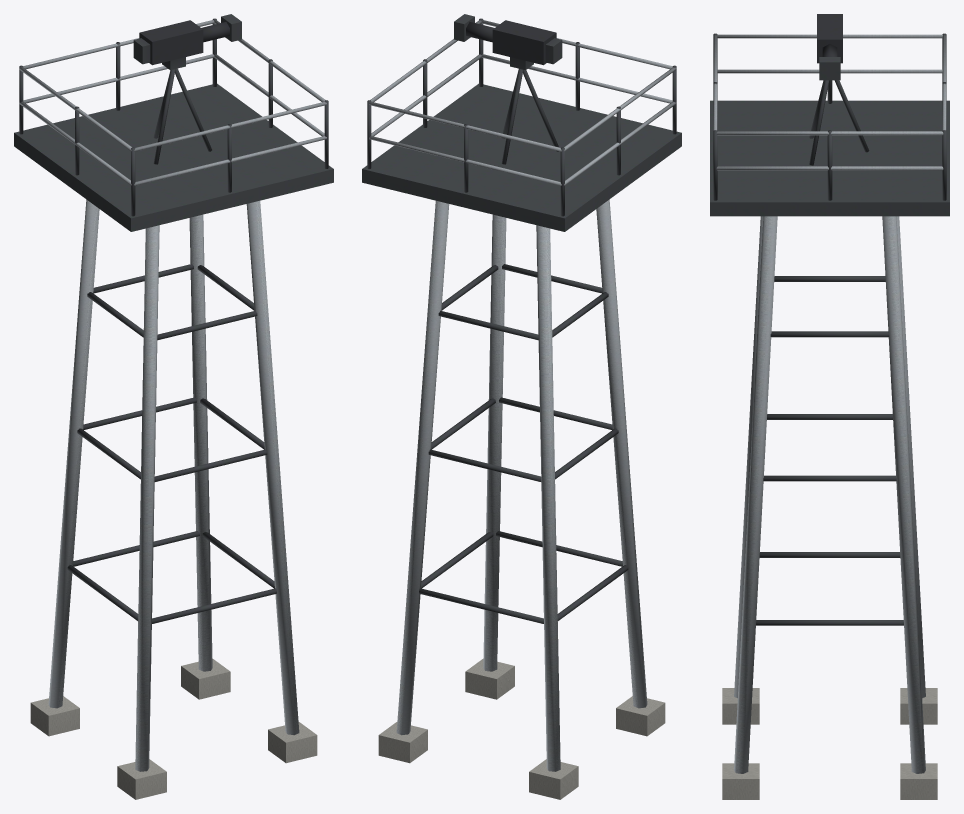
File: camera-tower_far.glb
The picture shows the model from 3 angles, left to right: view 1: azimuth 30°, elevation 25°; view 2: azimuth 150°, elevation 25°; view 3: azimuth 270°, elevation 25°; orthographic projection. The views are drawn at different scales.
Parts seen in each view (by area): view 1: dark-steel, galvanised, concrete, rubber; view 2: dark-steel, galvanised, concrete, rubber; view 3: dark-steel, galvanised, concrete, rubber.
Part boxes in pixels (x1=…): dark-steel: x1=14, y1=14, x2=333, y2=623; galvanised: x1=19, y1=20, x2=326, y2=771; concrete: x1=30, y1=658, x2=317, y2=799; rubber: x1=139, y1=20, x2=229, y2=65; dark-steel: x1=362, y1=14, x2=681, y2=623; galvanised: x1=369, y1=20, x2=676, y2=771; concrete: x1=378, y1=658, x2=665, y2=799; rubber: x1=466, y1=20, x2=556, y2=65; dark-steel: x1=710, y1=33, x2=949, y2=625; galvanised: x1=713, y1=34, x2=946, y2=773; concrete: x1=722, y1=688, x2=937, y2=799; rubber: x1=817, y1=14, x2=842, y2=63.
Bounding box in the file's own units: 3.1 × 10.36 × 3.1.
5 materials, 4 textured.
